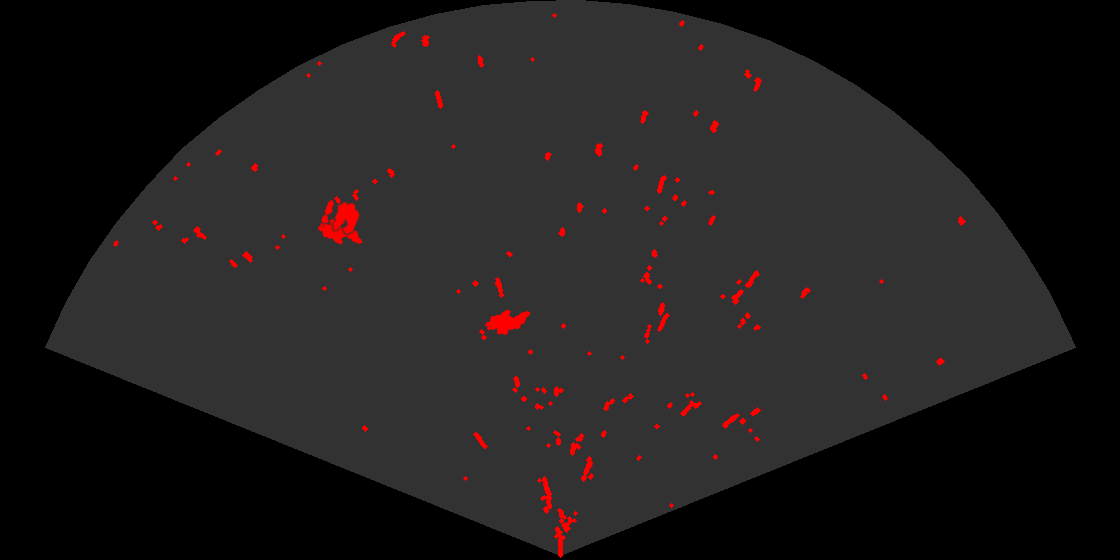AUV: (483, 308, 532, 337), (316, 217, 364, 246)
ball: (320, 198, 361, 236)
